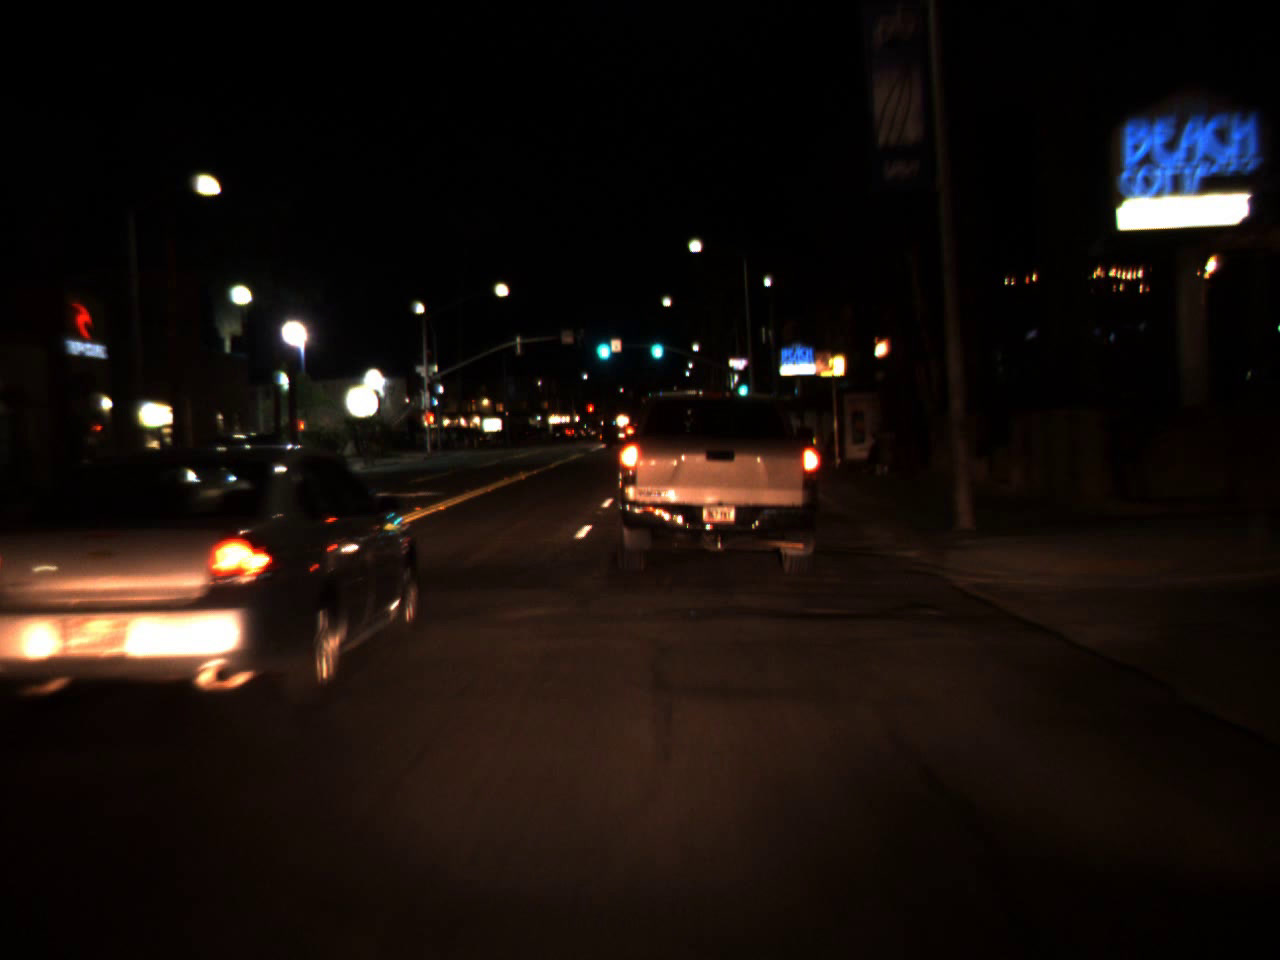go: (592, 323, 613, 365), (647, 325, 665, 364), (736, 372, 748, 399)
